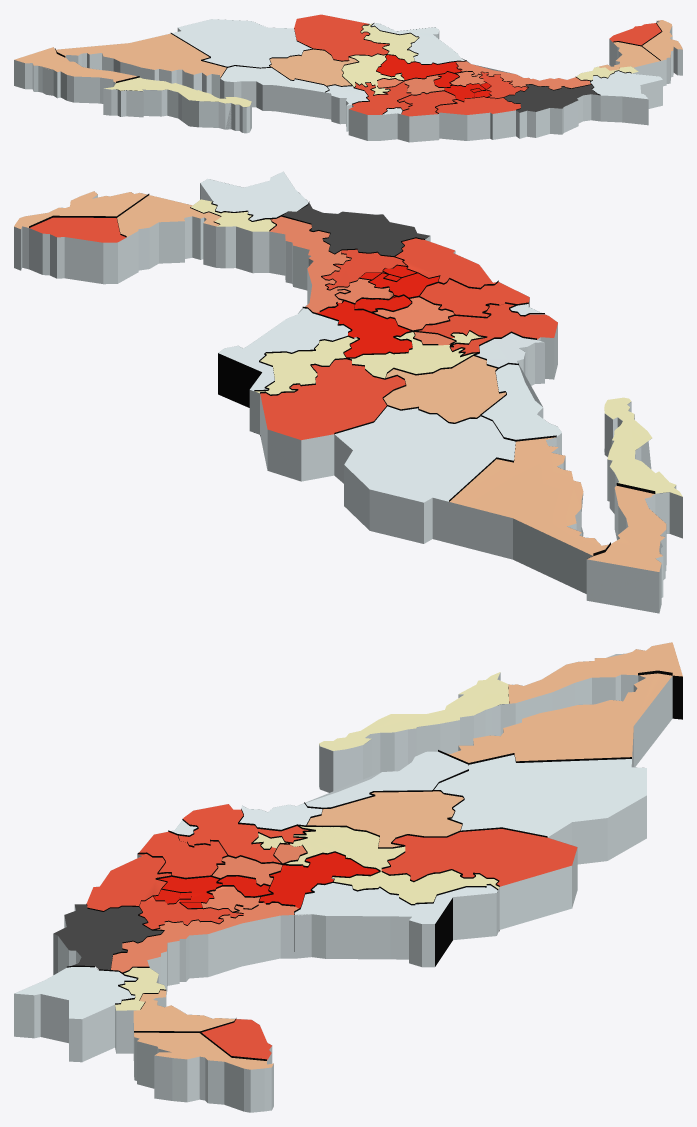
File: mapa_mexico.fixed.glb
The picture shows the model from 3 angles, top to bottom: view 1: azimuth 30°, elevation 25°; view 2: azimuth 150°, elevation 25°; view 3: azimuth 270°, elevation 25°; orthographic projection. The views are drawn at different scales.
Parts seen in each view (by area): view 1: Plane; view 2: Plane; view 3: Plane.
Boxes of the visible parts, x1=… form: Plane: x1=14, y1=14, x2=682, y2=142; Plane: x1=14, y1=171, x2=682, y2=613; Plane: x1=14, y1=642, x2=682, y2=1112.
Size of the model in its own units: 12.16 by 0.6565 by 8.04.
